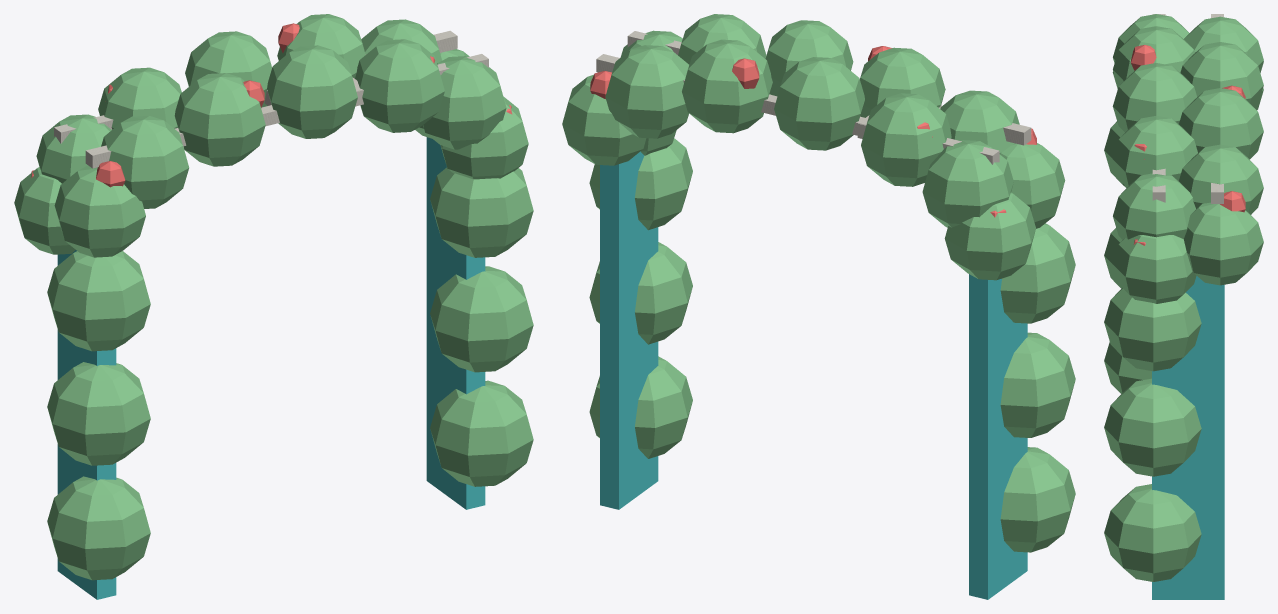
The model's file is theme-park-rides-and-coasters-theme-park-rides-and-coa-05808043__28715.glb.
The picture shows the model from 3 angles, left to right: view 1: azimuth 30°, elevation 25°; view 2: azimuth 150°, elevation 25°; view 3: azimuth 270°, elevation 25°; orthographic projection. The views are drawn at different scales.
Visible parts, largest first — view 1: theme-park-rides-and-coasters-archway-trellis; view 2: theme-park-rides-and-coasters-archway-trellis; view 3: theme-park-rides-and-coasters-archway-trellis.
Part boxes in pixels (x1,y1,x2,y2): theme-park-rides-and-coasters-archway-trellis: [14, 14, 533, 599]; theme-park-rides-and-coasters-archway-trellis: [562, 14, 1075, 599]; theme-park-rides-and-coasters-archway-trellis: [1104, 14, 1263, 599].
Bounding box in the file's own units: 3.48 × 3.47 × 1.1.
Materials: 4 (1 with a texture image).
